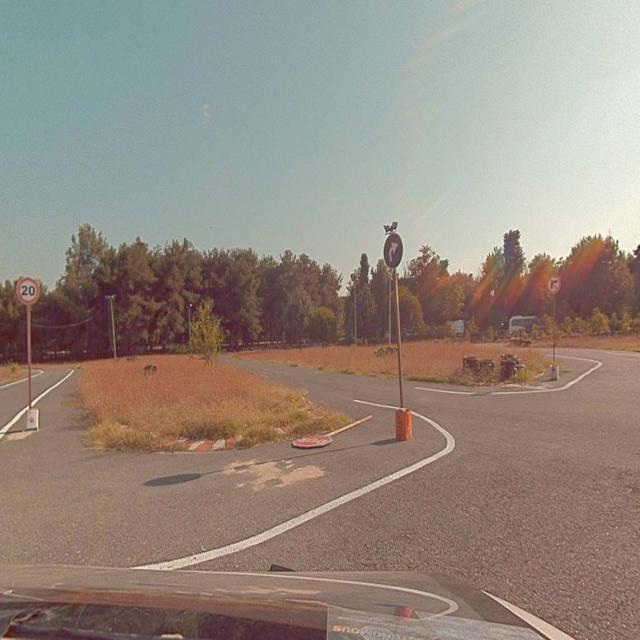20: (18, 278, 37, 303)
sag: (384, 234, 403, 267)
sagadonulmez: (548, 274, 560, 292)
